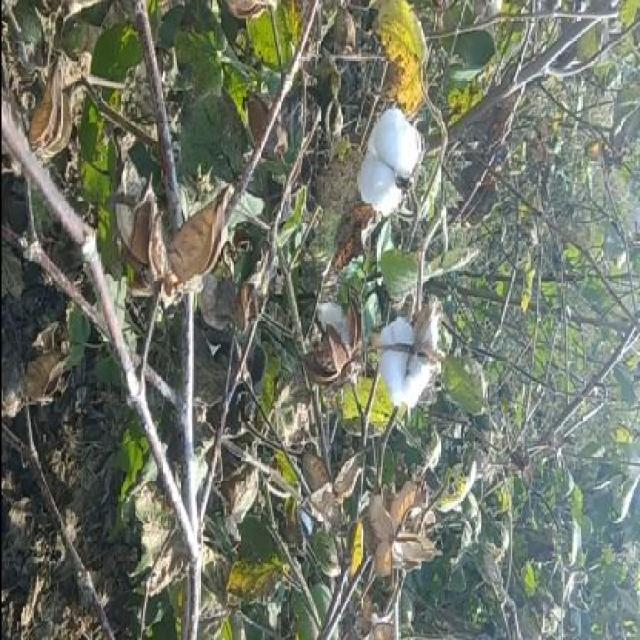cotton_ready: (355, 297, 457, 452), (337, 89, 428, 237)
